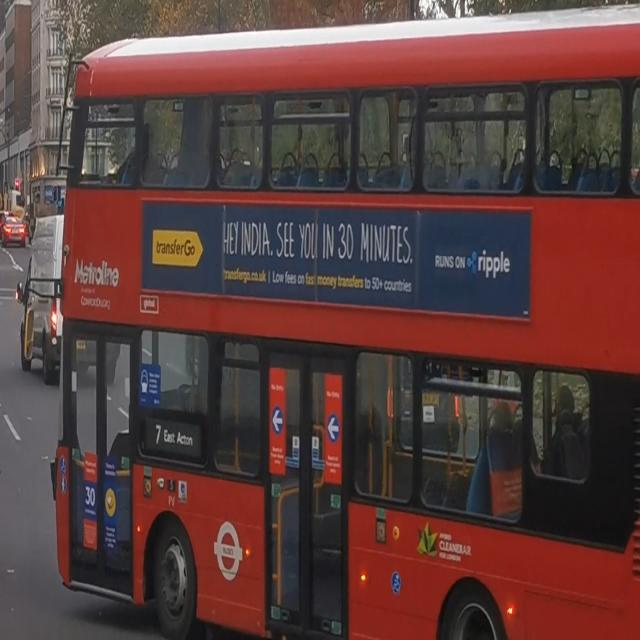Car: (66, 42, 640, 639)
